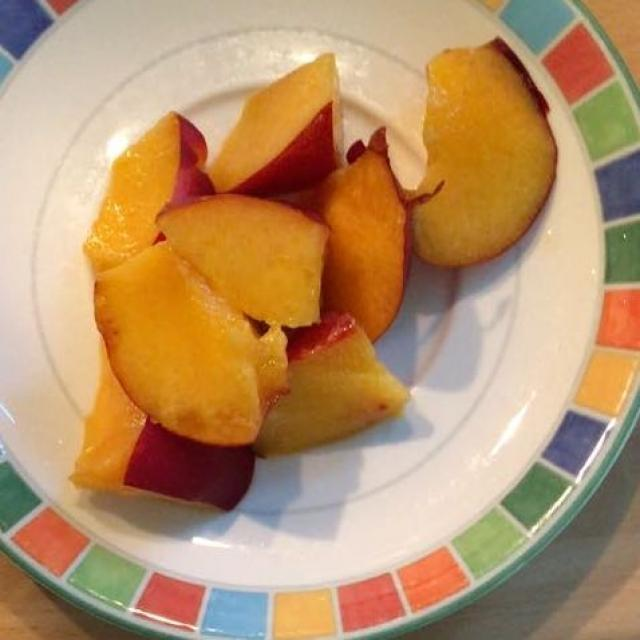nectarine: (90, 37, 558, 536)
